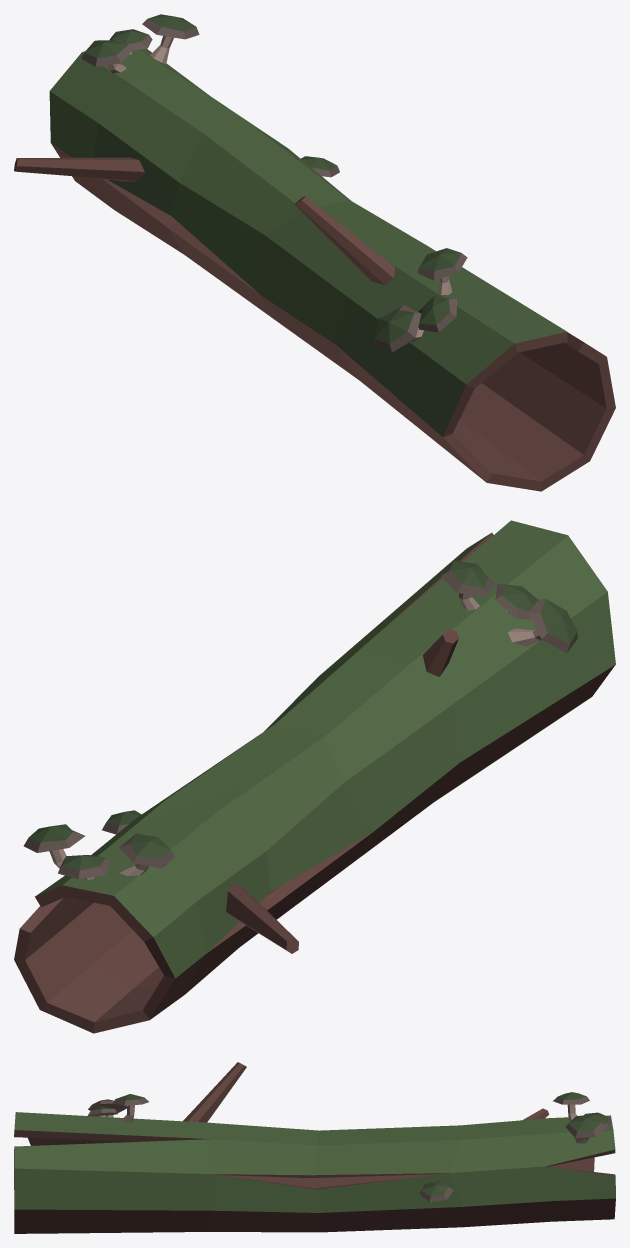
The model's file is WoodLog_Moss.glb.
The picture shows the model from 3 angles, top to bottom: view 1: azimuth 30°, elevation 25°; view 2: azimuth 150°, elevation 25°; view 3: azimuth 270°, elevation 25°; orthographic projection. The views are drawn at different scales.
Visible parts, largest first — view 1: Green, Wood, DarkGreen, Mushroom_Top, Mushroom_Bottom; view 2: Green, Wood, DarkGreen, Mushroom_Top, Mushroom_Bottom; view 3: Green, Wood, Mushroom_Top, DarkGreen, Mushroom_Bottom.
Boxes of the visible parts, bbox=[...] form: Green: bbox=[49, 49, 566, 436]; Wood: bbox=[14, 143, 615, 491]; DarkGreen: bbox=[84, 14, 461, 343]; Mushroom_Top: bbox=[81, 19, 467, 352]; Mushroom_Bottom: bbox=[106, 36, 452, 341]; Green: bbox=[35, 520, 615, 978]; Wood: bbox=[14, 533, 615, 1033]; DarkGreen: bbox=[29, 560, 577, 870]; Mushroom_Top: bbox=[23, 561, 577, 879]; Mushroom_Bottom: bbox=[49, 593, 541, 879]; Green: bbox=[14, 1112, 615, 1212]; Wood: bbox=[14, 1062, 615, 1233]; Mushroom_Top: bbox=[87, 1096, 611, 1202]; DarkGreen: bbox=[91, 1092, 608, 1196]; Mushroom_Bottom: bbox=[99, 1104, 589, 1143].
Size of the model in its own units: 0.8966 by 0.6883 by 2.67.
